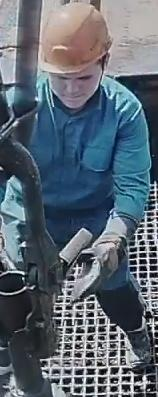gloves: (70, 228, 125, 304)
helmet: (38, 3, 113, 74)
vest: (22, 76, 158, 241)
